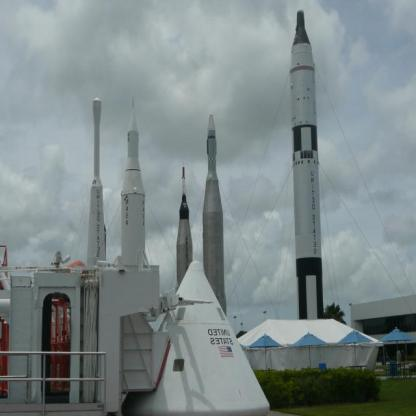MIL_TBM: (289, 8, 325, 321), (197, 112, 225, 320), (114, 95, 144, 268), (80, 93, 104, 270), (173, 164, 192, 289)
